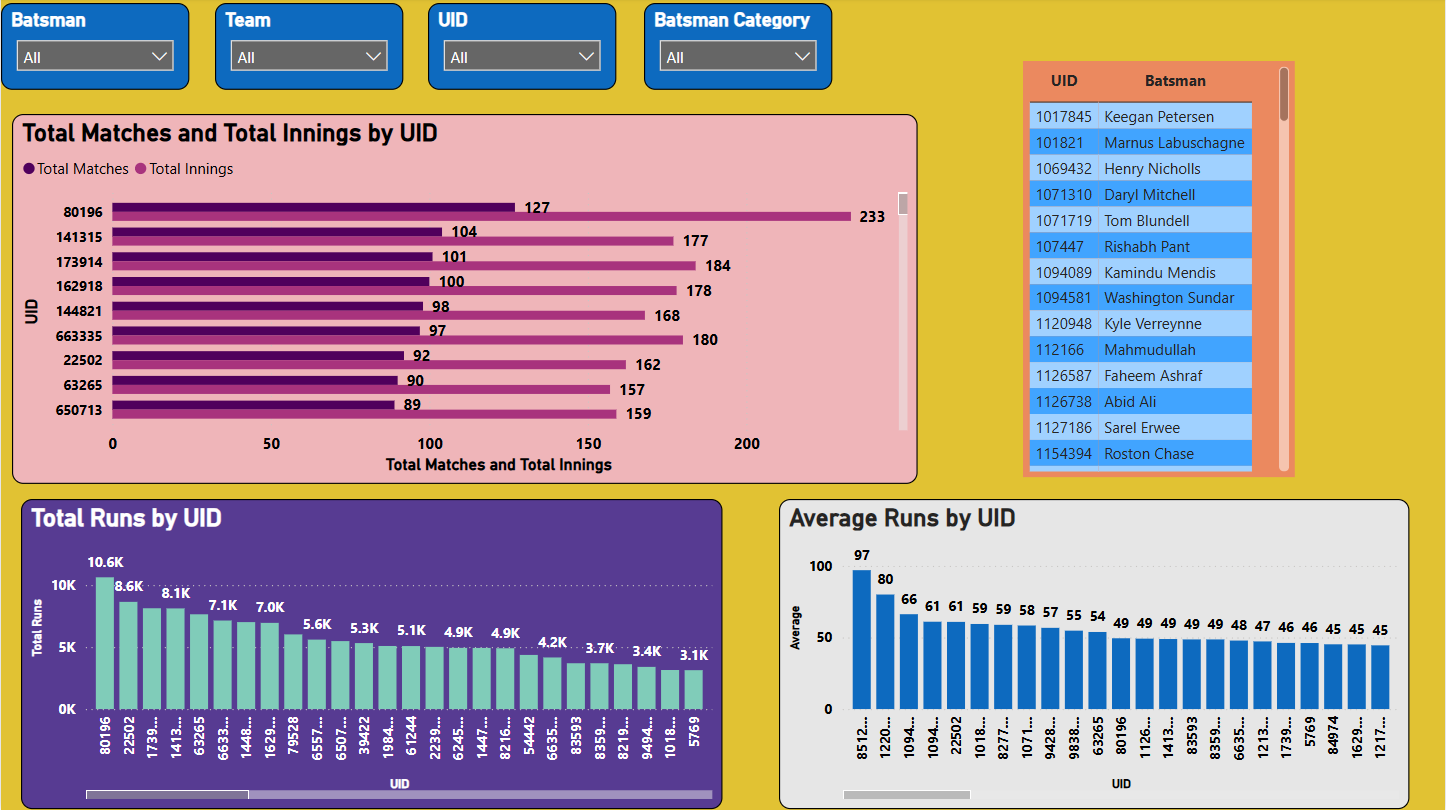

What the dashboard file says about the page in this screenshot:
{"tool":"powerbi","page":{"name":"Batsman Analysis","canvas":[1280,720],"ordinal":2},"visuals":[{"type":"clusteredBarChart","fields":{"Y":["Sum(top100batsman.matches)","Sum(top100batsman.innings)"],"Category":["top100batsman.UID"]},"box":[9.7,103.1,803.4,327.8],"z":0},{"type":"columnChart","title":"Total Runs by UID","fields":{"Y":["Sum(top100batsman.runs)"],"Category":["top100batsman.UID"]},"box":[17.5,444.5,622.5,275.3],"z":1000},{"type":"columnChart","title":"Average Runs by UID","fields":{"Y":["Sum(top100batsman.average)"],"Category":["top100batsman.UID"]},"box":[689.6,444.5,559.3,275.3],"z":2000},{"type":"tableEx","fields":{"Values":["top100batsman.UID","top100batsman.batsman"]},"box":[906.5,55.4,241.2,368.6],"z":3000},{"type":"slicer","title":"Team","fields":{"Values":["top100batsman.team"]},"box":[189.7,4.9,167.3,76.8],"z":4000},{"type":"slicer","title":"Batsman","fields":{"Values":["top100batsman.batsman"]},"box":[0,4.9,167.3,76.8],"z":5000},{"type":"slicer","title":"UID","fields":{"Values":["top100batsman.UID"]},"box":[378.4,4.9,167.3,76.8],"z":6000},{"type":"slicer","title":"Batsman Category","fields":{"Values":["top100batsman.Batsman Category"]},"box":[570,4.9,167.3,76.8],"z":7000}]}

Visuals, with their boxes in screenshot pixels (x1, y1, x2, y2), scaled from the page's 1280x720 canvas onto the 1446x810 screenshot:
clusteredBarChart - Sum(top100batsman.matches) x Sum(top100batsman.innings): x1=11, y1=116, x2=919, y2=485
"Total Runs by UID" columnChart: x1=20, y1=500, x2=723, y2=809
"Average Runs by UID" columnChart: x1=779, y1=500, x2=1411, y2=809
tableEx - top100batsman.UID x top100batsman.batsman: x1=1024, y1=62, x2=1297, y2=477
"Team" slicer: x1=214, y1=6, x2=403, y2=92
"Batsman" slicer: x1=0, y1=6, x2=189, y2=92
"UID" slicer: x1=427, y1=6, x2=616, y2=92
"Batsman Category" slicer: x1=644, y1=6, x2=833, y2=92
